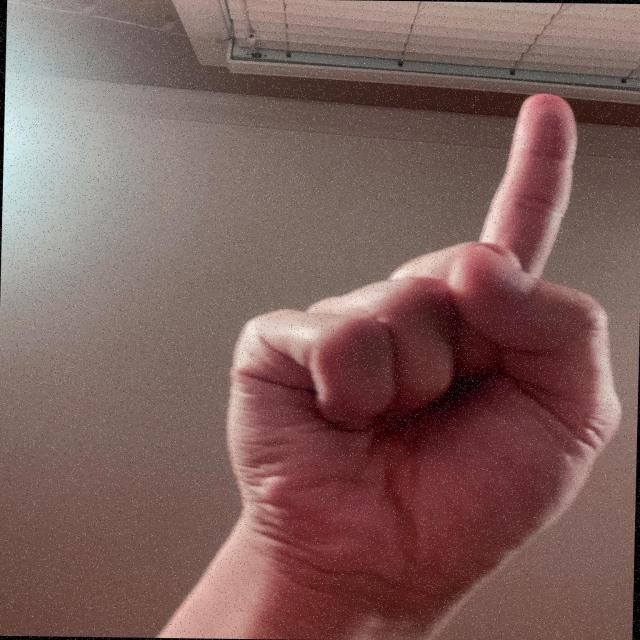Z: (202, 80, 640, 619)
